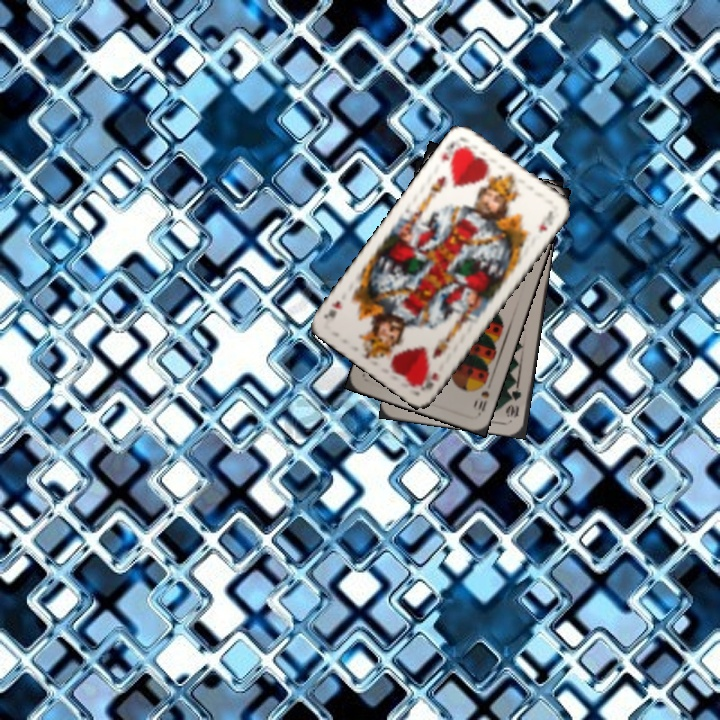G10: (504, 380, 524, 421)
HK: (437, 135, 467, 170), (418, 368, 441, 392)
S10: (474, 376, 492, 417)
